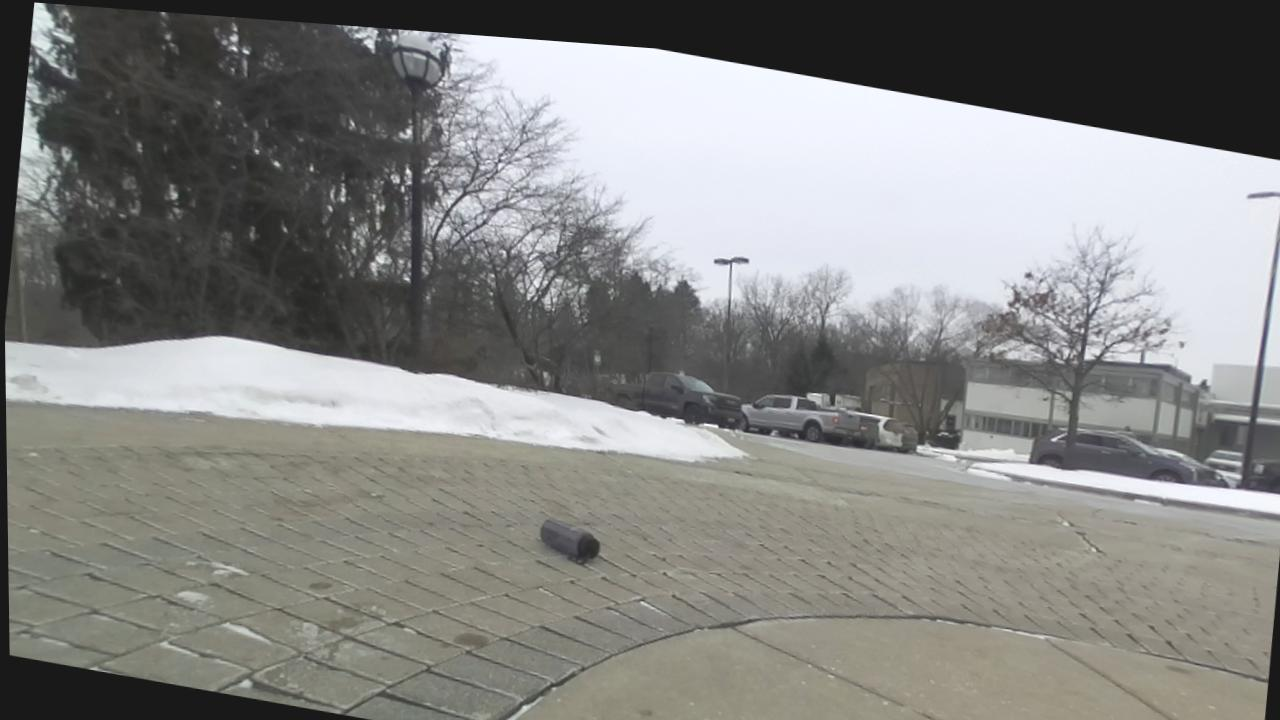bottle: (539, 516, 600, 563)
